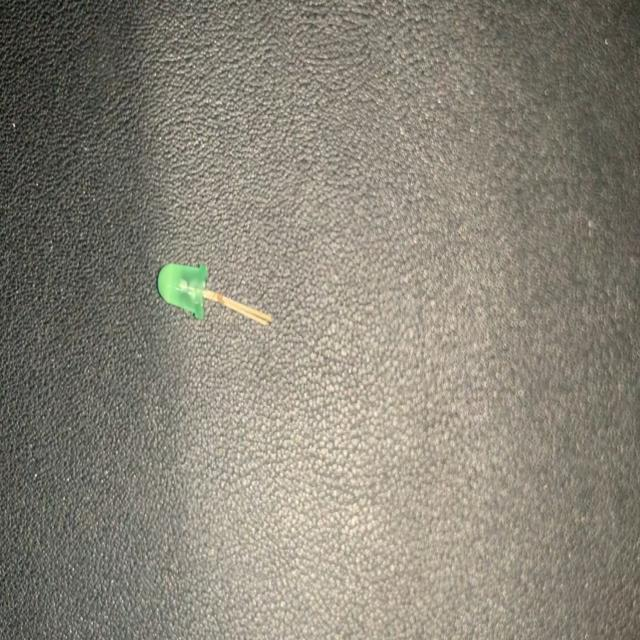LED: (155, 258, 273, 330)
